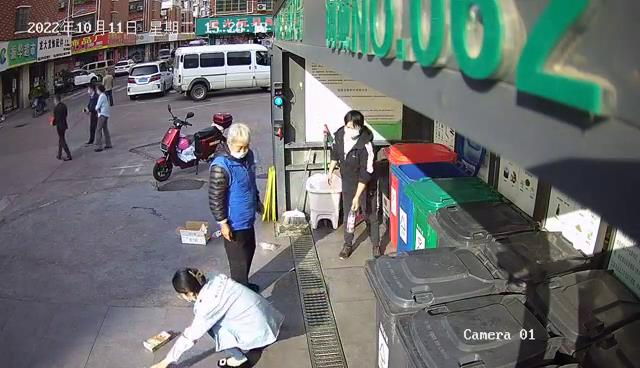person: (144, 263, 291, 368), (323, 108, 390, 263)
suliaozhipin: (344, 205, 358, 235), (257, 238, 279, 253)
zhizhipin: (140, 325, 179, 354), (175, 219, 211, 246)
